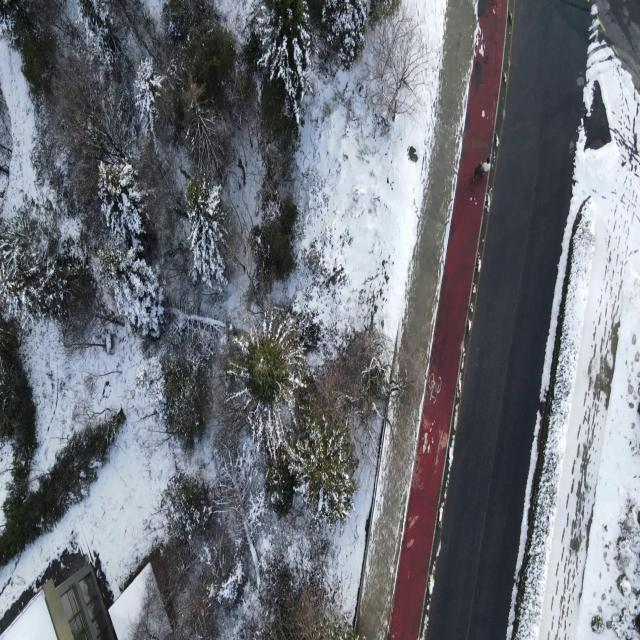p3rson: (472, 160, 482, 181), (481, 158, 491, 176)
